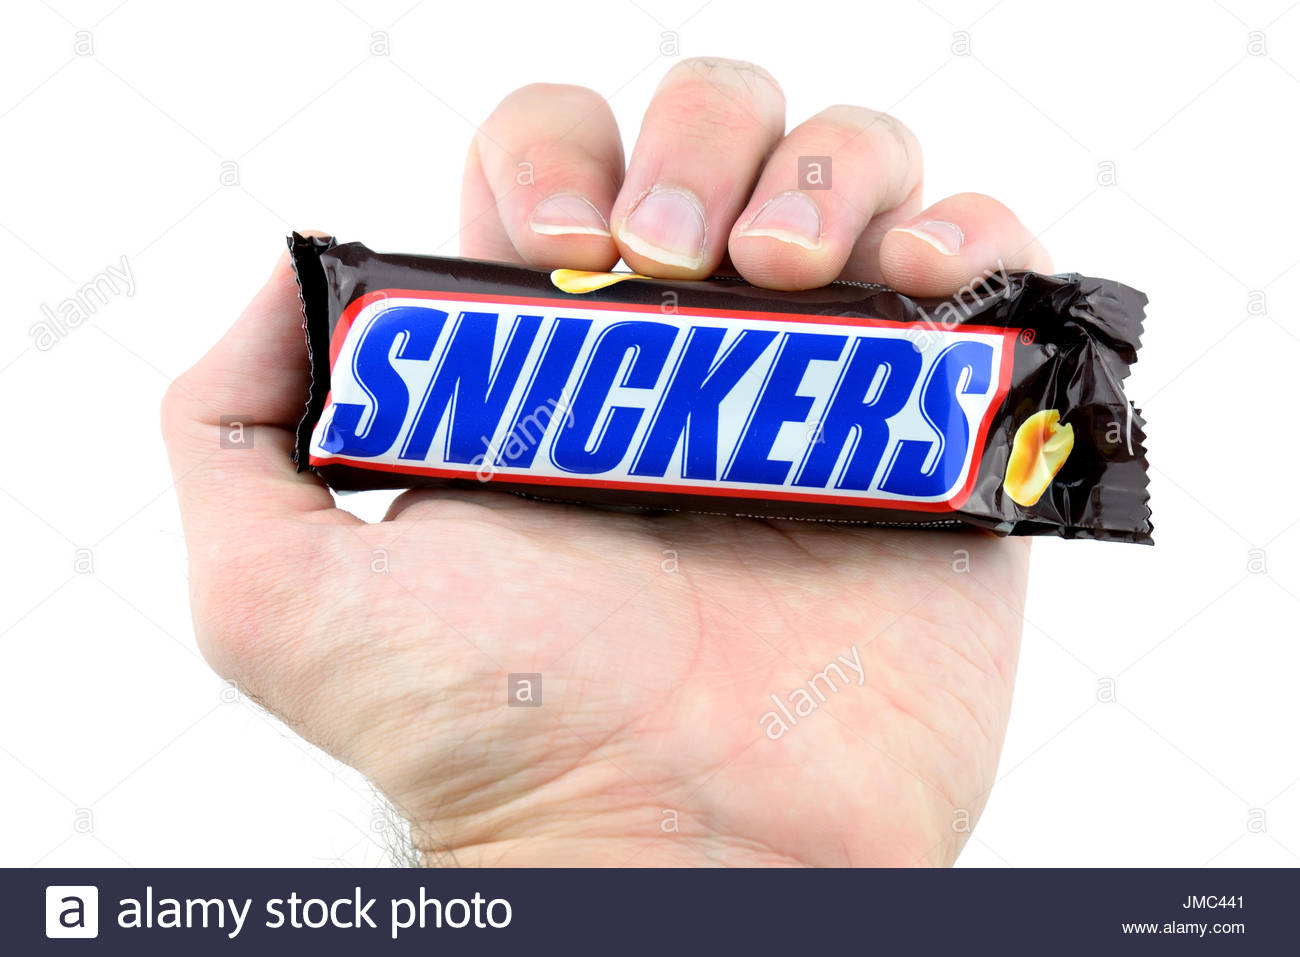snickers: (318, 304, 991, 492), (323, 304, 991, 492)
